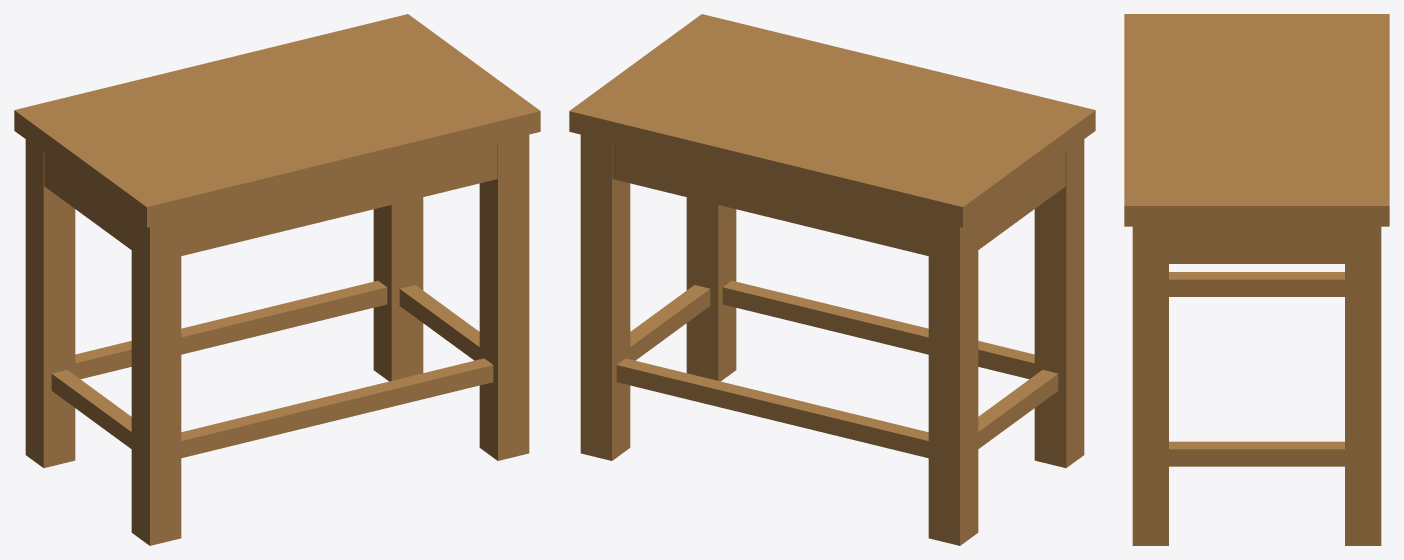
Rendered from parametric-piano-stool-crew.glb.
3 renders of one model, left to right at view 1: azimuth 30°, elevation 25°; view 2: azimuth 150°, elevation 25°; view 3: azimuth 270°, elevation 25°, orthographic.
Visible parts, largest first — view 1: parametric-piano-stool-crew; view 2: parametric-piano-stool-crew; view 3: parametric-piano-stool-crew.
Boxes of the visible parts, <box> form: parametric-piano-stool-crew: <box>14,14,540,545</box>; parametric-piano-stool-crew: <box>569,14,1095,545</box>; parametric-piano-stool-crew: <box>1124,14,1389,545</box>.
Bounding box in the file's own units: 0.6 × 0.5 × 0.35.
